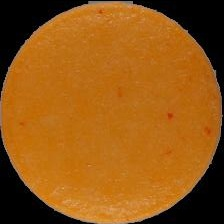61786-831: (0, 0, 224, 224)
